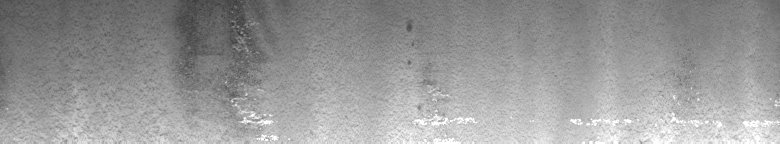hc: (221, 4, 278, 136)
